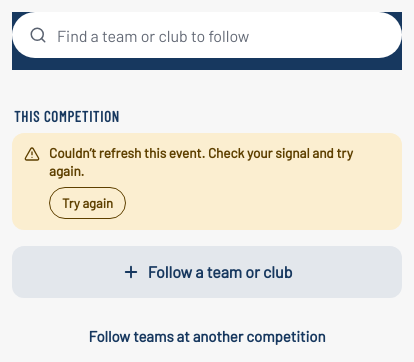
FollowingPage › offers to try again when an event will not load
Expected: the message shows "Couldn’t refresh this event.", left=49, top=144, right=353, bottom=179
Click the button "Try again" at (88, 203), box left=49, top=187, right=126, bottom=219
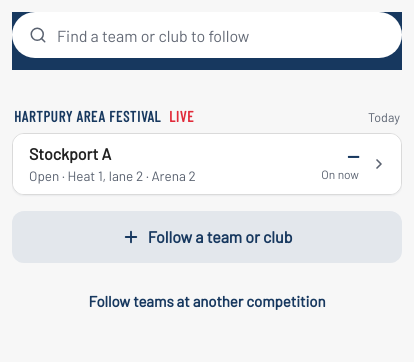
Expected: the link "Stockport A Open · Heat 1, lane 2 · Arena 2 — On now" is shown, left=13, top=134, right=401, bottom=194
